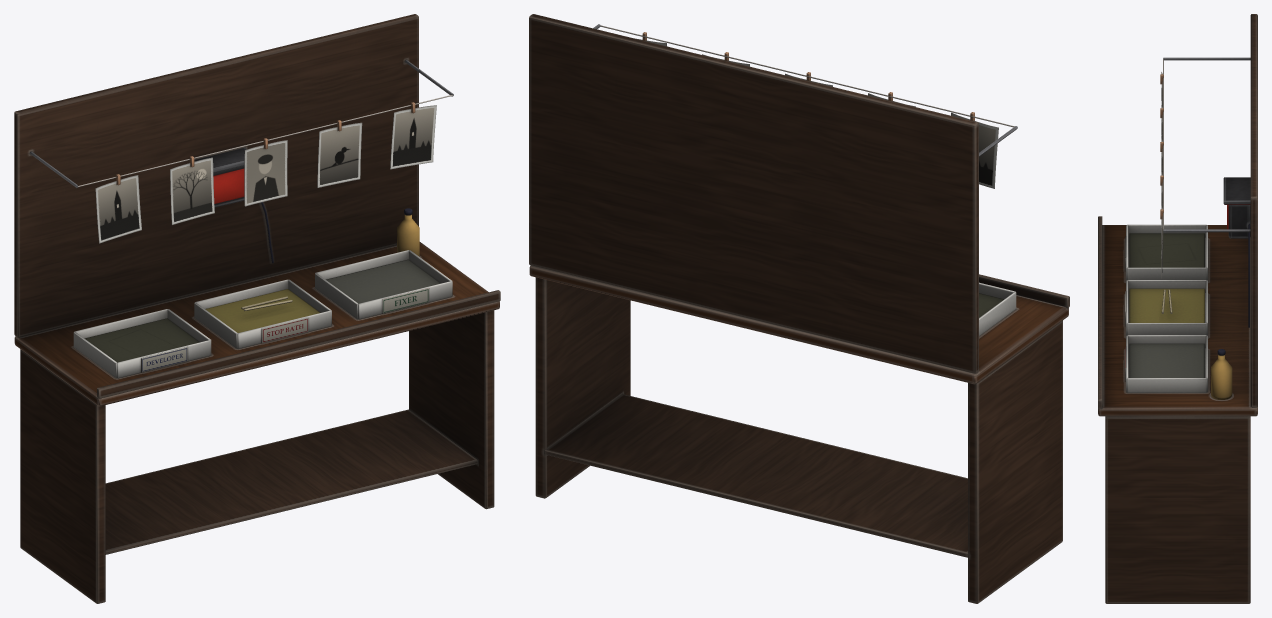
Rendered from DarkroomTrays.fbx.
3 views of the same model, side by side, from view 1: azimuth 30°, elevation 25°; view 2: azimuth 150°, elevation 25°; view 3: azimuth 270°, elevation 25° (orthographic). The views are drawn at different scales.
Parts seen in each view (by area): view 1: DarkroomTrays_Main, DarkroomTrays_Glow; view 2: DarkroomTrays_Main; view 3: DarkroomTrays_Main.
Boxes of the visible parts, bbox=[...] form: DarkroomTrays_Main: bbox=[14, 14, 500, 603]; DarkroomTrays_Glow: bbox=[213, 168, 244, 203]; DarkroomTrays_Main: bbox=[529, 14, 1069, 603]; DarkroomTrays_Main: bbox=[1098, 14, 1257, 603].
Bounding box in the file's own units: 600 × 620 × 220.
